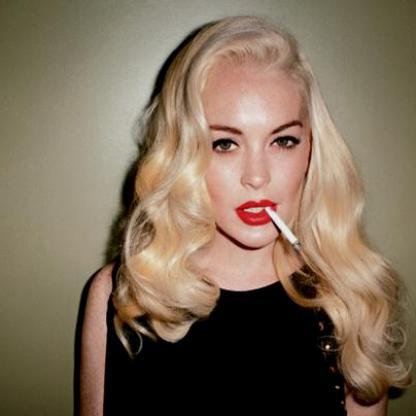cigarette: (264, 206, 302, 252)
person: (74, 23, 404, 416)
